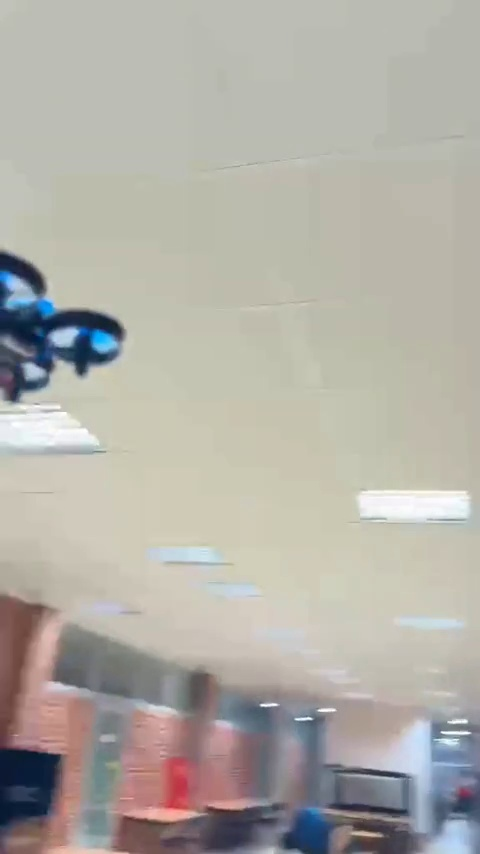drone: (0, 244, 129, 420)
